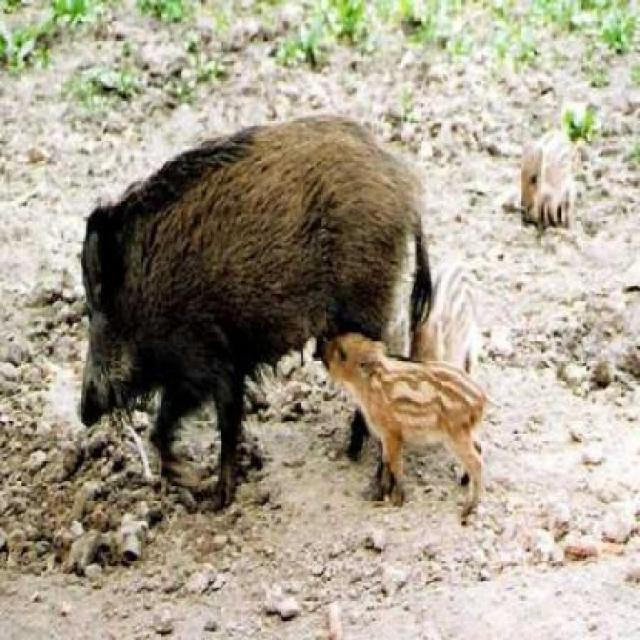pig: (22, 97, 443, 513), (317, 265, 494, 507)
